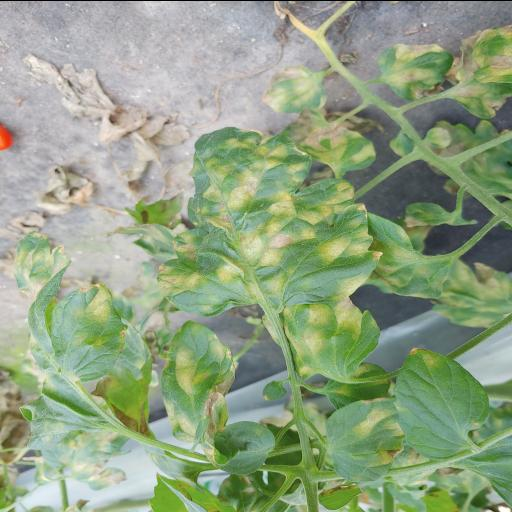Leaf Mold: (155, 125, 387, 316), (12, 228, 129, 448), (392, 346, 492, 459), (162, 319, 238, 440), (325, 390, 401, 482), (378, 42, 454, 100), (300, 123, 377, 171), (260, 64, 329, 114)
